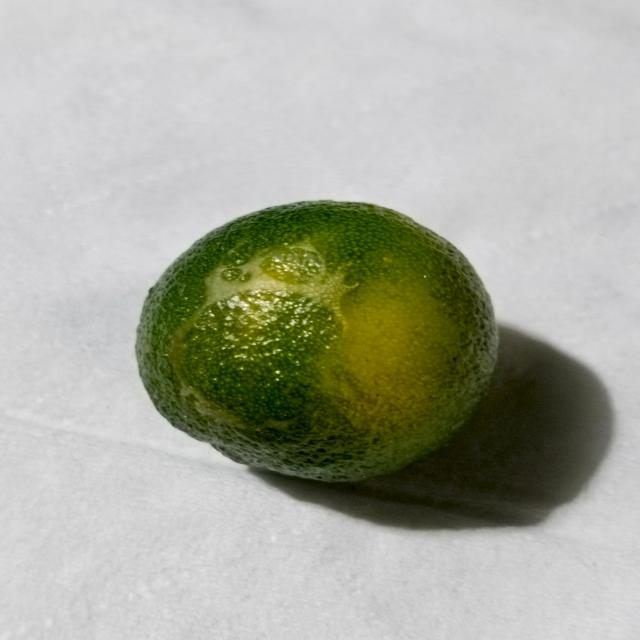thrips: (128, 196, 510, 490)
